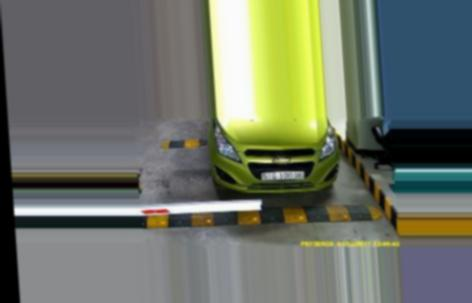License_Plate: (259, 167, 305, 184)
